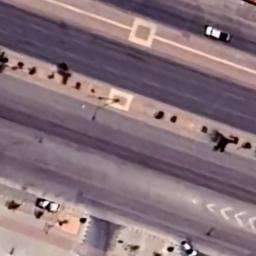pickup: (204, 26, 232, 42)
sedan: (180, 238, 197, 256)
